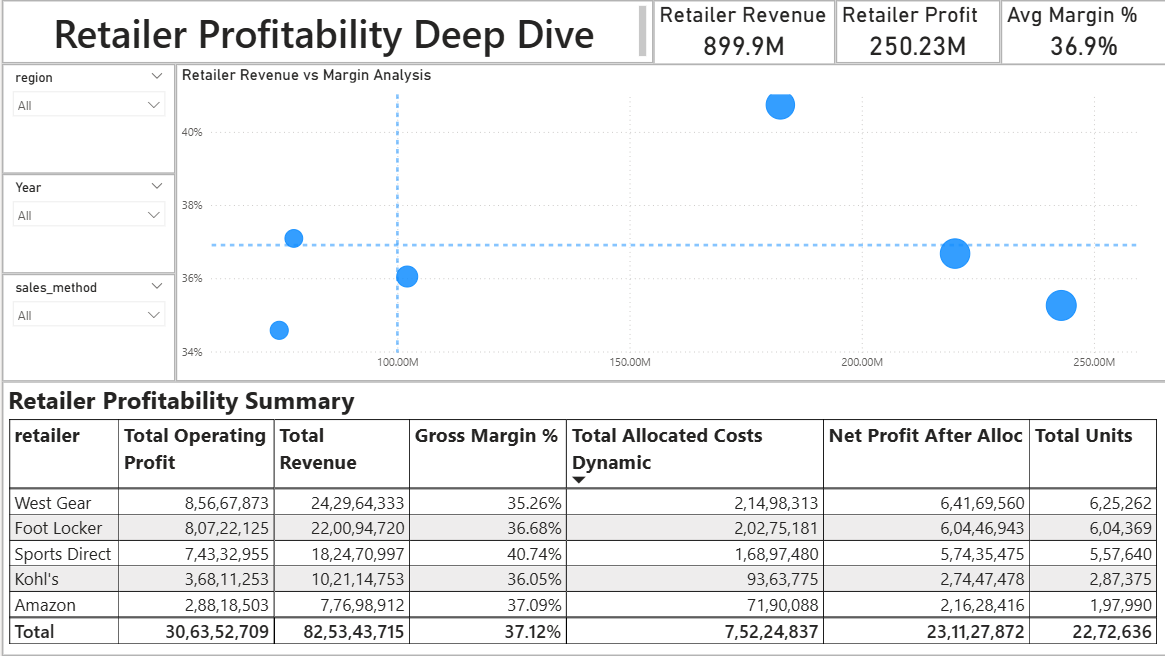

This screenshot's page, from the dashboard's own definition file:
{"tool":"powerbi","page":{"name":"Retailer Deep Dive","canvas":[1280,720],"ordinal":1},"visuals":[{"type":"textbox","box":[0,0,714.9,70],"z":0},{"type":"card","title":"Retailer Profit","fields":{"Values":["Table.Net Profit After Alloc"]},"box":[915.3,0,181.1,70],"z":1000},{"type":"card","title":"Avg Margin %","fields":{"Values":["Table.Gross Margin %"]},"box":[1096.4,0,183.9,71.4],"z":2000},{"type":"card","title":"Retailer Revenue","fields":{"Values":["Table.Total Revenue"]},"box":[714.9,0,200.3,71.4],"z":3000},{"type":"scatterChart","title":"Retailer Revenue vs Margin Analysis","fields":{"X":["Table.Total Revenue"],"Y":["Table.Gross Margin %"],"Size":["Table.Total Units"],"Category":["Dim_Retailer.retailer"]},"box":[190.7,70,1089.5,348.5],"z":4000},{"type":"tableEx","title":"Retailer Profitability Summary","fields":{"Values":["Dim_Retailer.retailer","Table.Total Operating Profit","Table.Total Revenue","Table.Gross Margin %","Table.Total Allocated Costs Dynamic","Table.Net Profit After Alloc","Table.Total Units"]},"box":[0,418.5,1280.3,301.9],"z":5000},{"type":"slicer","fields":{"Values":["Dim_Date.Year"]},"box":[0,190.7,190.7,109.8],"z":6000},{"type":"slicer","fields":{"Values":["Dim_Region.region"]},"box":[0,70,190.7,120.8],"z":7000},{"type":"slicer","fields":{"Values":["Fact_Sales.sales_method"]},"box":[0,300.5,190.7,118],"z":8000}]}

Visuals, with their boxes in screenshot pixels (x1, y1, x2, y2), scaled from the page's 1280x720 canvas onto the 1165x656 screenshot:
textbox: 0:0:651:64
"Retailer Profit" card: 833:0:998:64
"Avg Margin %" card: 998:0:1164:65
"Retailer Revenue" card: 651:0:833:65
"Retailer Revenue vs Margin Analysis" scatterChart: 174:64:1164:381
"Retailer Profitability Summary" tableEx: 0:381:1164:655
slicer - Dim_Date.Year: 0:174:174:274
slicer - Dim_Region.region: 0:64:174:174
slicer - Fact_Sales.sales_method: 0:274:174:381
